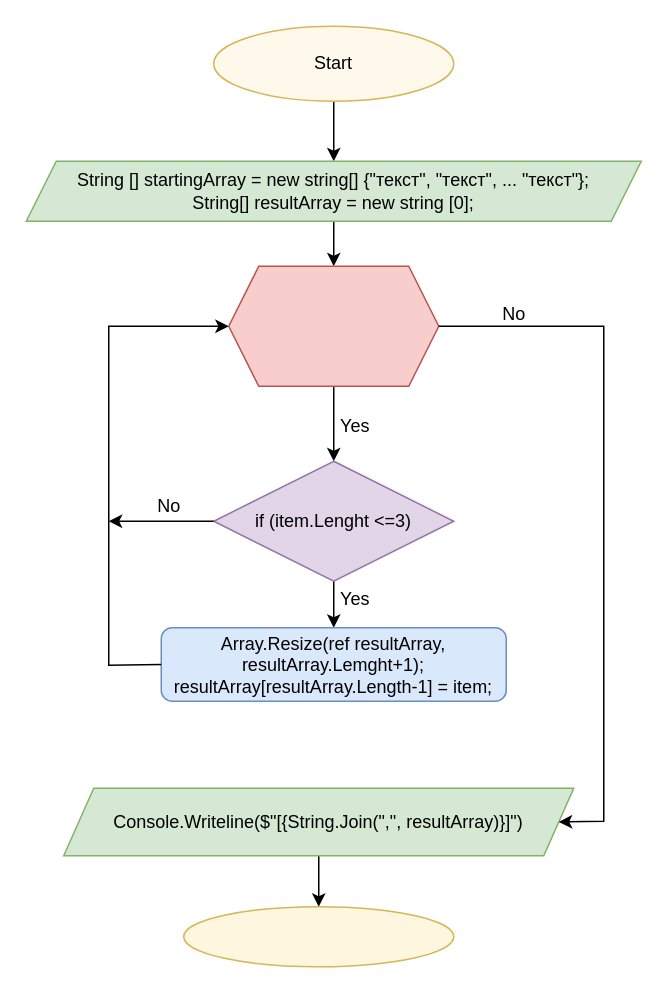
Image size: 668x993. Some labels were removed from this diagram. Here are the shapes that lost their labels. From the top down, the box of each, then its label:
(227, 265, 439, 386): Foreach (var item in startingArray)
(182, 905, 454, 967): Finish
